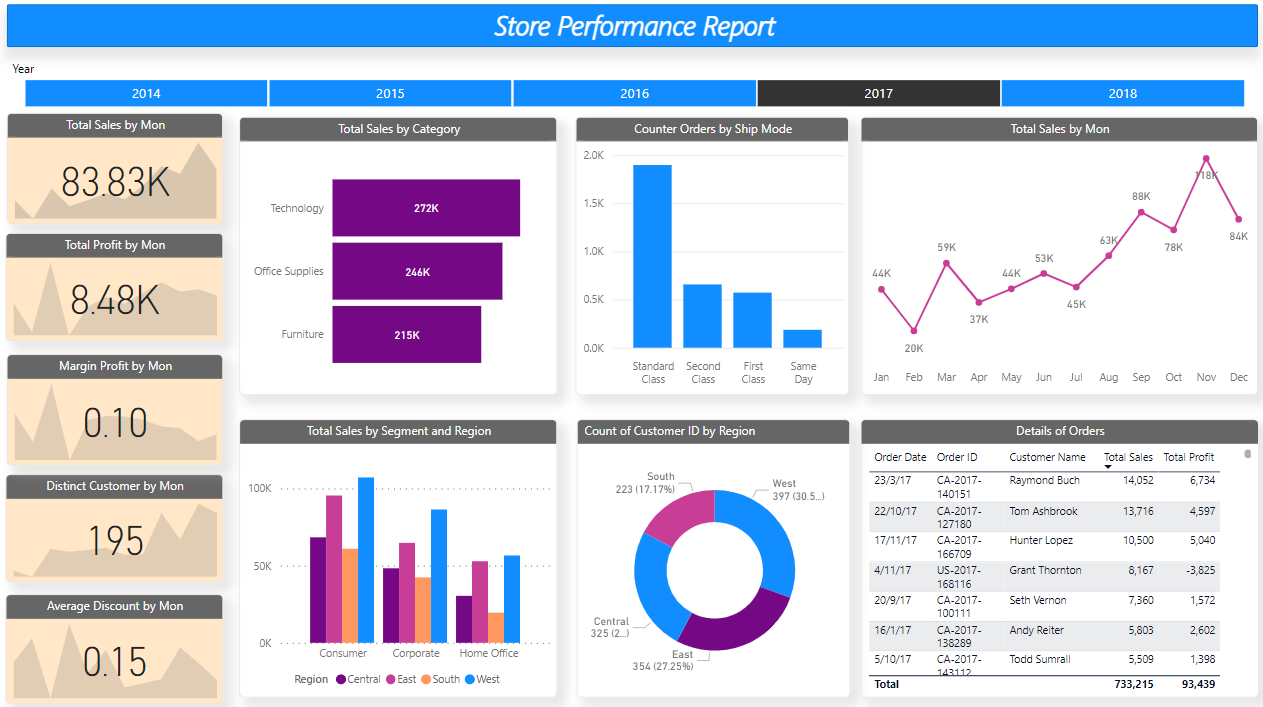

The dashboard page shown, as its layout file describes it:
{"tool":"powerbi","page":{"name":"Performance Report","canvas":[1280,720],"ordinal":1},"visuals":[{"type":"shape","box":[8.9,11.5,1258.9,43.3],"z":0},{"type":"kpi","fields":{"Indicator":["Superstore Orders.Total Sales"],"TrendLine":["Calendar.Mon"]},"box":[8.9,120.6,217.4,111.7],"z":1000},{"type":"kpi","fields":{"Indicator":["Superstore Orders.Total Profit"],"TrendLine":["Calendar.Mon"]},"box":[7.4,241.2,218.9,108.7],"z":2000},{"type":"kpi","fields":{"TrendLine":["Calendar.Mon"],"Indicator":["Superstore Orders.Count Distinct Customer"]},"box":[7.4,483.9,218.9,108.7],"z":3000},{"type":"kpi","fields":{"TrendLine":["Calendar.Mon"],"Indicator":["Superstore Orders.Margin Profit"]},"box":[8.9,363.3,217.4,111.7],"z":4000},{"type":"kpi","fields":{"Indicator":["Superstore Orders.Average Discount"],"TrendLine":["Calendar.Mon"]},"box":[7.4,604.6,218.9,110.2],"z":5000},{"type":"slicer","fields":{"Values":["Calendar.Year"]},"box":[1.3,62.4,1276.7,58.6],"z":6000},{"type":"textbox","box":[428.3,8.3,423.3,48.3],"z":7000},{"type":"clusteredBarChart","fields":{"Y":["Superstore Orders.Total Sales"],"Category":["Superstore Orders.Category"]},"box":[242.2,125.1,320.2,279.9],"z":8000},{"type":"clusteredColumnChart","fields":{"Y":["Superstore Orders.Total Sales"],"Category":["Superstore Orders.Segment"],"Series":["Superstore Orders.Region"]},"box":[242.2,428.9,320.2,279.9],"z":9000},{"type":"clusteredColumnChart","fields":{"Y":["Superstore Orders.Counter Orders"],"Category":["Superstore Orders.Ship Mode"]},"box":[581.7,125.1,275.5,279.9],"z":10000},{"type":"lineChart","fields":{"Y":["Superstore Orders.Total Sales"],"Category":["Calendar.Mon"]},"box":[868.1,125.1,400,280],"z":11000},{"type":"donutChart","fields":{"Category":["Superstore Orders.Region"],"Y":["Superstore Orders.Customer ID"]},"box":[582.2,428.9,275.5,279.9],"z":12000},{"type":"tableEx","title":"Details of Orders","fields":{"Values":["Superstore Orders.Order Date","Superstore Orders.Order ID","Superstore Orders.Customer Name","Superstore Orders.Total Sales","Superstore Orders.Total Profit"]},"box":[868.1,428.9,400.6,279.9],"z":13000}]}

Visuals, with their boxes in screenshot pixels (x1, y1, x2, y2), scaled from the page's 1280x720 canvas onto the 1263x707 screenshot:
shape: {"x1": 9, "y1": 11, "x2": 1251, "y2": 54}
kpi - Superstore Orders.Total Sales x Calendar.Mon: {"x1": 9, "y1": 118, "x2": 223, "y2": 228}
kpi - Superstore Orders.Total Profit x Calendar.Mon: {"x1": 7, "y1": 237, "x2": 223, "y2": 344}
kpi - Calendar.Mon x Superstore Orders.Count Distinct Customer: {"x1": 7, "y1": 475, "x2": 223, "y2": 582}
kpi - Calendar.Mon x Superstore Orders.Margin Profit: {"x1": 9, "y1": 357, "x2": 223, "y2": 466}
kpi - Superstore Orders.Average Discount x Calendar.Mon: {"x1": 7, "y1": 594, "x2": 223, "y2": 702}
slicer - Calendar.Year: {"x1": 1, "y1": 61, "x2": 1261, "y2": 119}
textbox: {"x1": 423, "y1": 8, "x2": 840, "y2": 56}
clusteredBarChart - Superstore Orders.Total Sales x Superstore Orders.Category: {"x1": 239, "y1": 123, "x2": 555, "y2": 398}
clusteredColumnChart - Superstore Orders.Total Sales x Superstore Orders.Segment: {"x1": 239, "y1": 421, "x2": 555, "y2": 696}
clusteredColumnChart - Superstore Orders.Counter Orders x Superstore Orders.Ship Mode: {"x1": 574, "y1": 123, "x2": 846, "y2": 398}
lineChart - Superstore Orders.Total Sales x Calendar.Mon: {"x1": 857, "y1": 123, "x2": 1251, "y2": 398}
donutChart - Superstore Orders.Region x Superstore Orders.Customer ID: {"x1": 574, "y1": 421, "x2": 846, "y2": 696}
"Details of Orders" tableEx: {"x1": 857, "y1": 421, "x2": 1252, "y2": 696}
